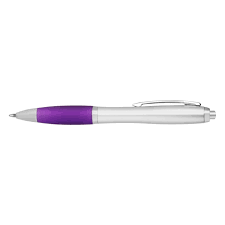qillqana: (4, 91, 220, 132)
